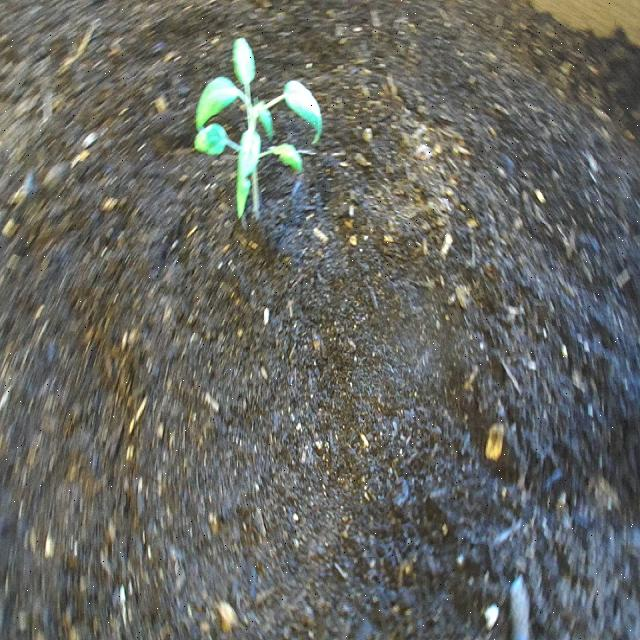Healthy: (189, 29, 329, 228)
